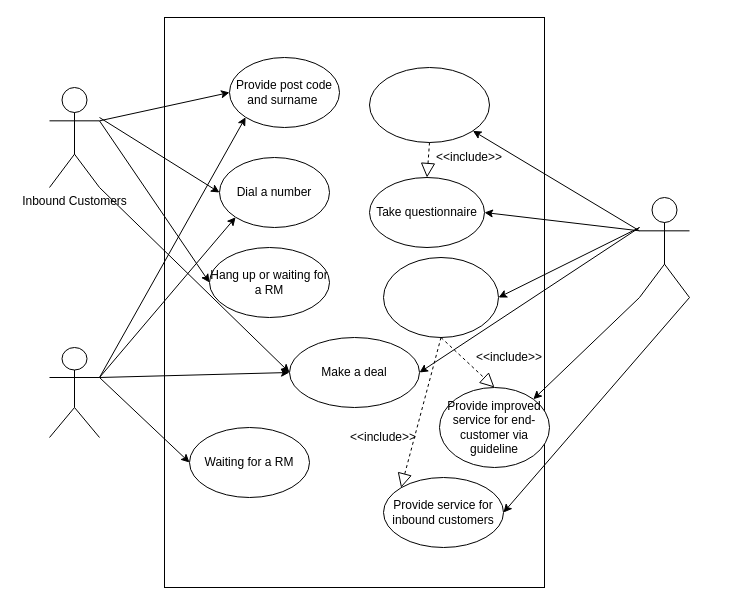
The diagram is 743 pixels wide and 605 high, and some of its shapes have lost their labels. Here are the shapes that lost their labels. From the top down, the centre of each, then its label:
At point (429, 104): "Provide individual information".
At point (664, 247): "Relationship Managers".
At point (440, 297): "Get a call and serve for the assigned customer".
At point (74, 392): "Outbound Customers".
